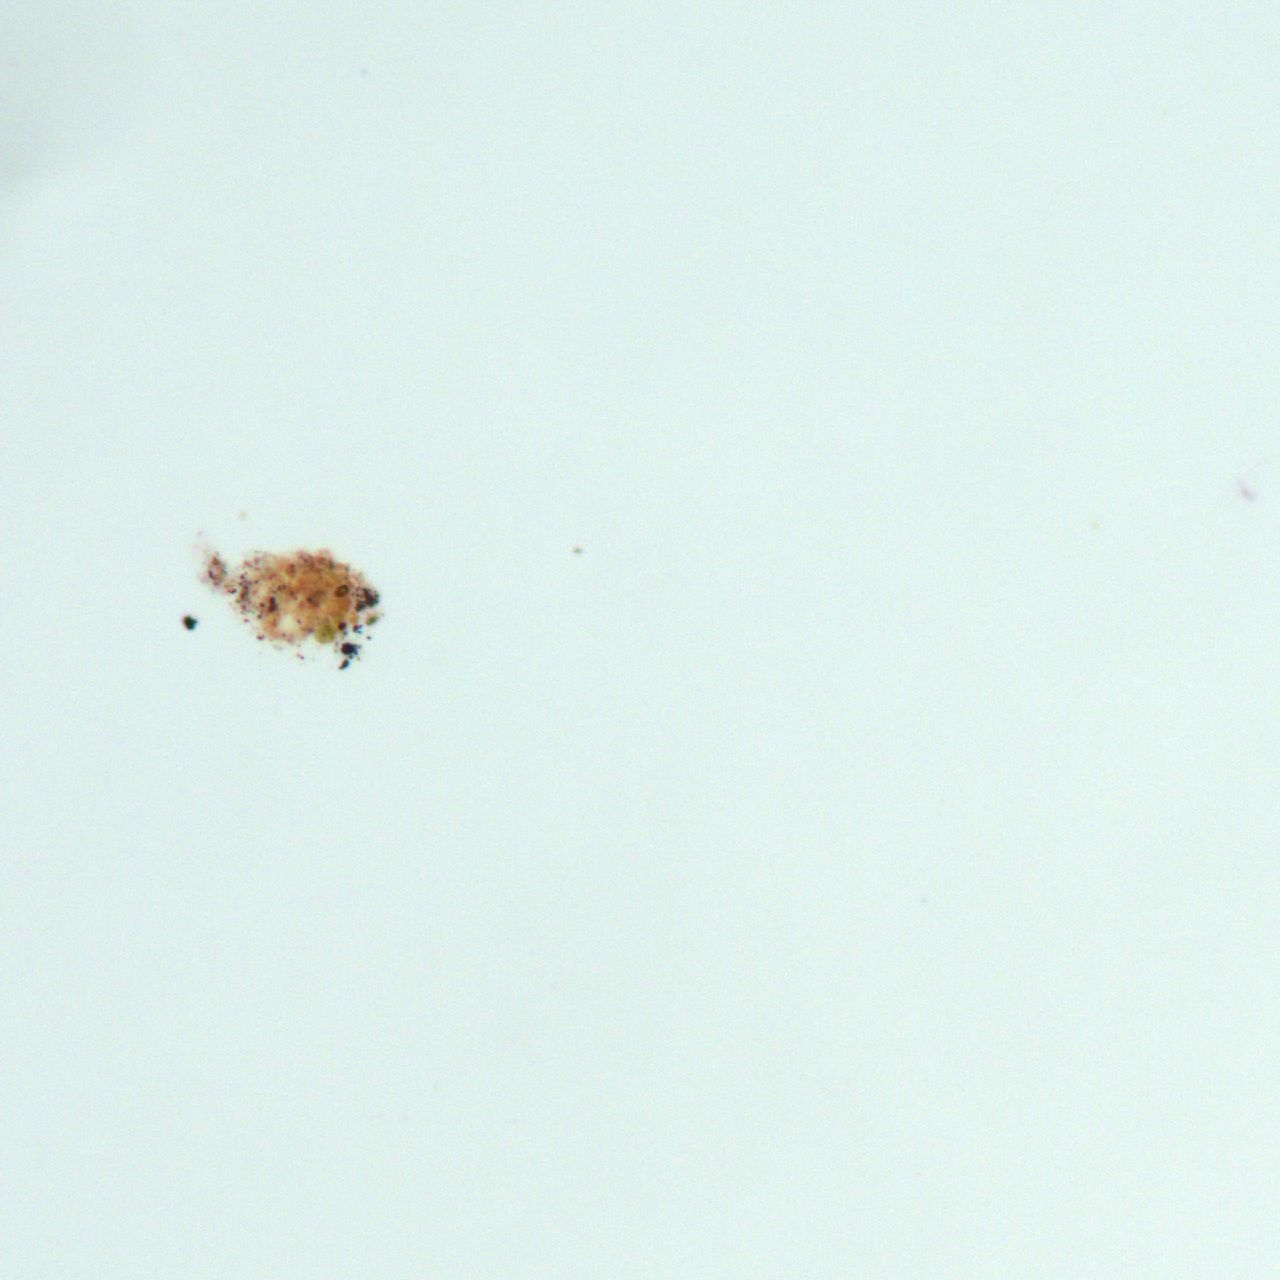dust: (202, 549, 379, 642), (340, 641, 360, 658), (181, 614, 198, 631), (338, 659, 349, 669)
